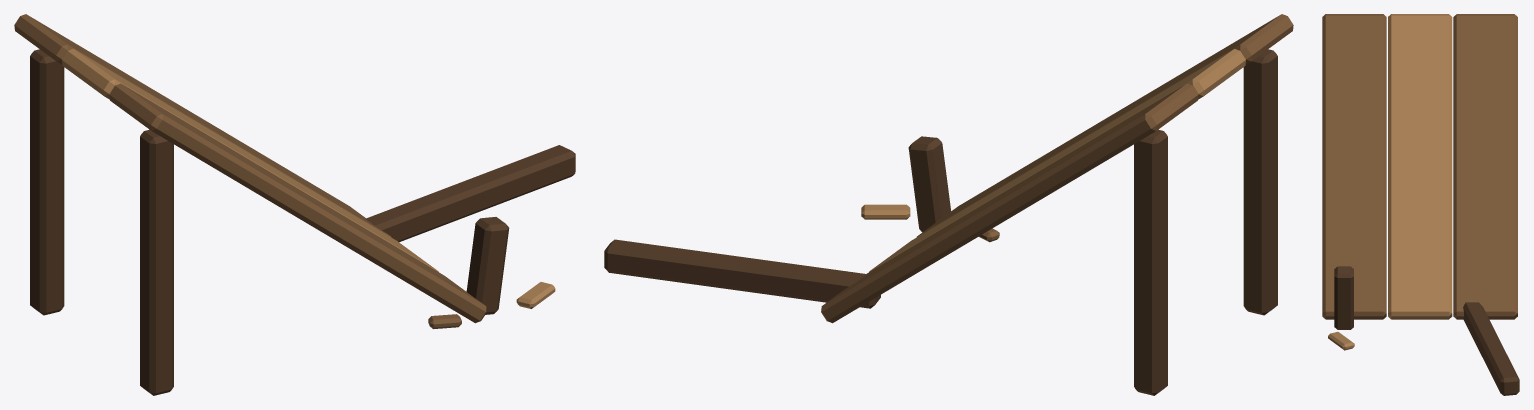
Rendered from table_wood_obedennyy_broken.glb.
3 views of the same model, side by side, from view 1: azimuth 30°, elevation 25°; view 2: azimuth 150°, elevation 25°; view 3: azimuth 270°, elevation 25° (orthographic). The views are drawn at different scales.
Parts seen in each view (by area): view 1: table_wood_obedennyy_broken; view 2: table_wood_obedennyy_broken; view 3: table_wood_obedennyy_broken.
Boxes of the visible parts, x1,y1,x2,y2 form: table_wood_obedennyy_broken: (14,14,575,395); table_wood_obedennyy_broken: (604,14,1293,395); table_wood_obedennyy_broken: (1322,14,1519,395).
Bounding box in the file's own units: 1.57 × 0.7847 × 0.7025.
1 material, 1 textured.
